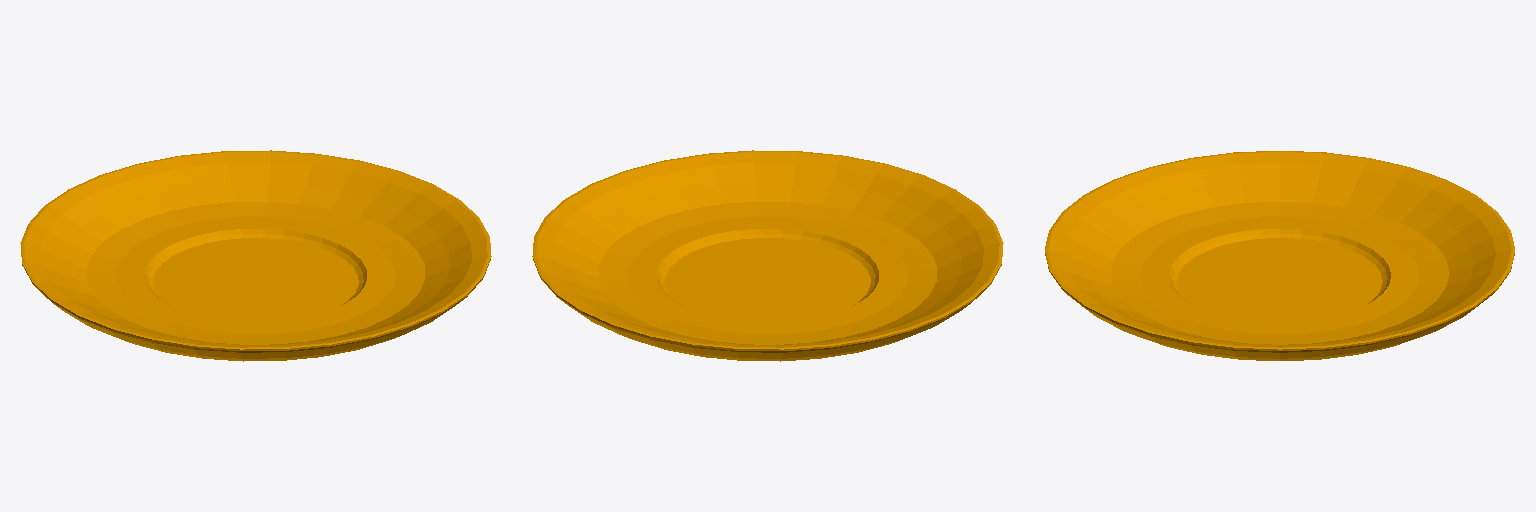
robot.urdf — apple:
<?xml version="0.0" ?>
<robot name="apple">
  <link name="baseLink">
    <contact>
      <lateral_friction value="1.0"/>
      <rolling_friction value="0.0"/>
      <contact_cfm value="0.0"/>
      <contact_erp value="1.0"/>
    </contact>
    <inertial>
      <origin rpy="0 0 0" xyz="0.0 0.0 0.0"/>
       <mass value=".1"/>
       <inertia ixx="1" ixy="0" ixz="0" iyy="1" iyz="0" izz="1"/>
    </inertial>
    <visual>
      <origin rpy="0 0 0" xyz="0 0 0"/>
      <geometry>
        <mesh filename="meshes/notextures/coffee_plate.obj" scale="0.01 0.01 0.01" />
      </geometry>

    </visual>
    <collision>
      <origin rpy="0 0 0" xyz="0 0 0"/>
      <geometry>
	 	<mesh filename="meshes/notextures/coffee_plate.obj" scale="0.01 0.01 0.01" />
      </geometry>
    </collision>
  </link>
</robot>

--- What the picture shows (computed from the rendered views, not written in the file) ---
The picture shows the robot from 3 angles, left to right: view 1: azimuth 30°, elevation 25°; view 2: azimuth 150°, elevation 25°; view 3: azimuth 270°, elevation 25°; orthographic projection.
Model apple with 1 links and 0 joints (none), rooted at baseLink, posed every joint at zero.
Links seen in each view (by area): view 1: baseLink; view 2: baseLink; view 3: baseLink.
Boxes of the visible links, box(x1,y1,x2,y2) form: baseLink: box(20, 150, 491, 361); baseLink: box(532, 150, 1003, 361); baseLink: box(1045, 151, 1514, 360).
Size in the robot's own frame: 0.132 by 0.132 by 0.0168 metres.
Meshes: 1 distinct files referenced, 1 mesh visuals loaded (1 OBJ).